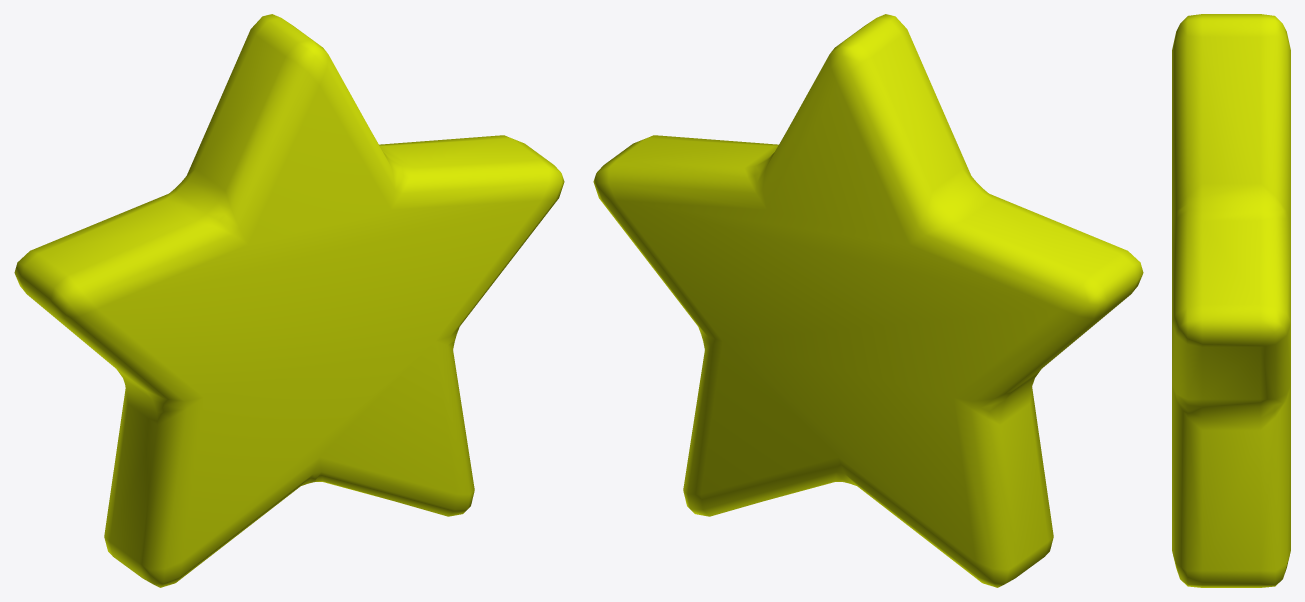
Rendered from star.glb.
3 renders of one model, left to right at view 1: azimuth 30°, elevation 25°; view 2: azimuth 150°, elevation 25°; view 3: azimuth 270°, elevation 25°, orthographic.
Visible parts, largest first — view 1: Circle; view 2: Circle; view 3: Circle.
Boxes of the visible parts, x1,y1,x2,y2 form: Circle: [14, 14, 564, 587]; Circle: [593, 14, 1143, 587]; Circle: [1172, 14, 1290, 587].
Size of the model in its own units: 1.75 by 1.67 by 0.36.
